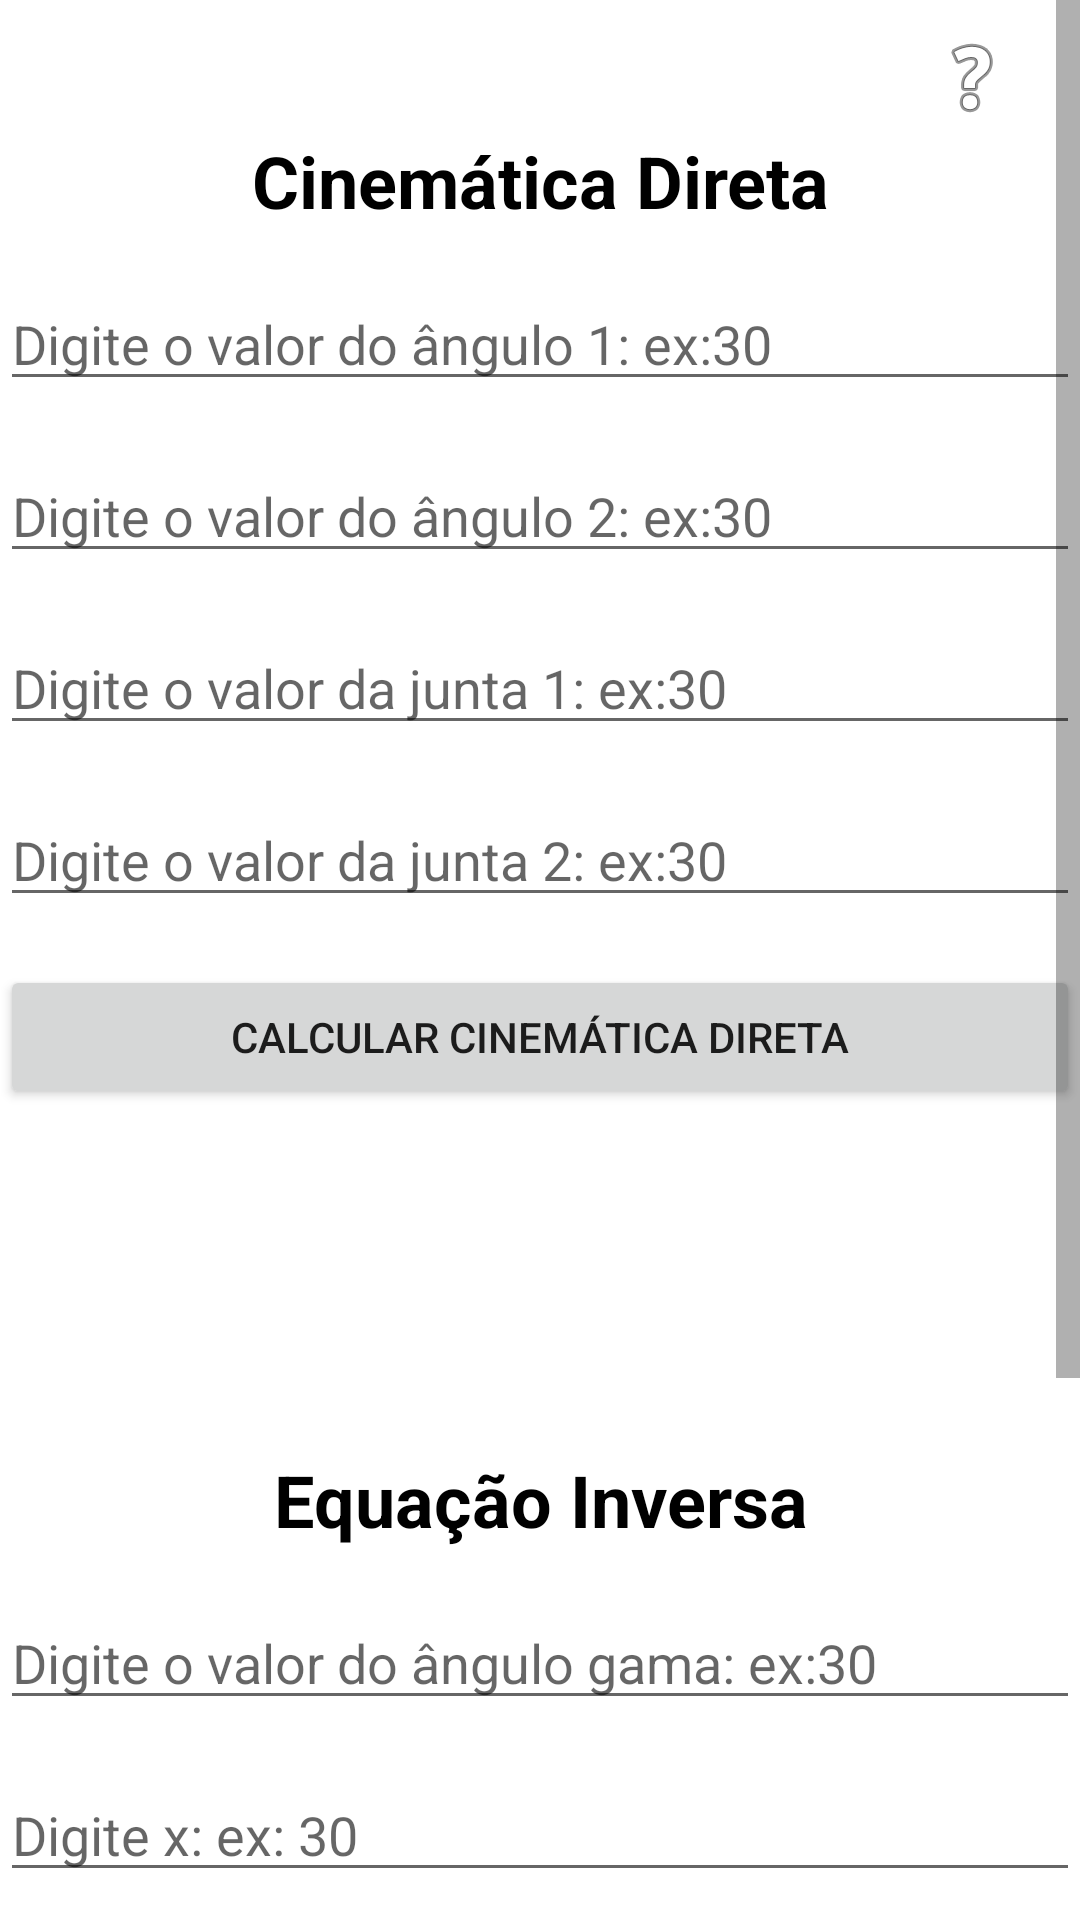

Screen size 1080px×1920px. Icon name, then its center in pixels as point (x, y):
help: point (972, 78)
